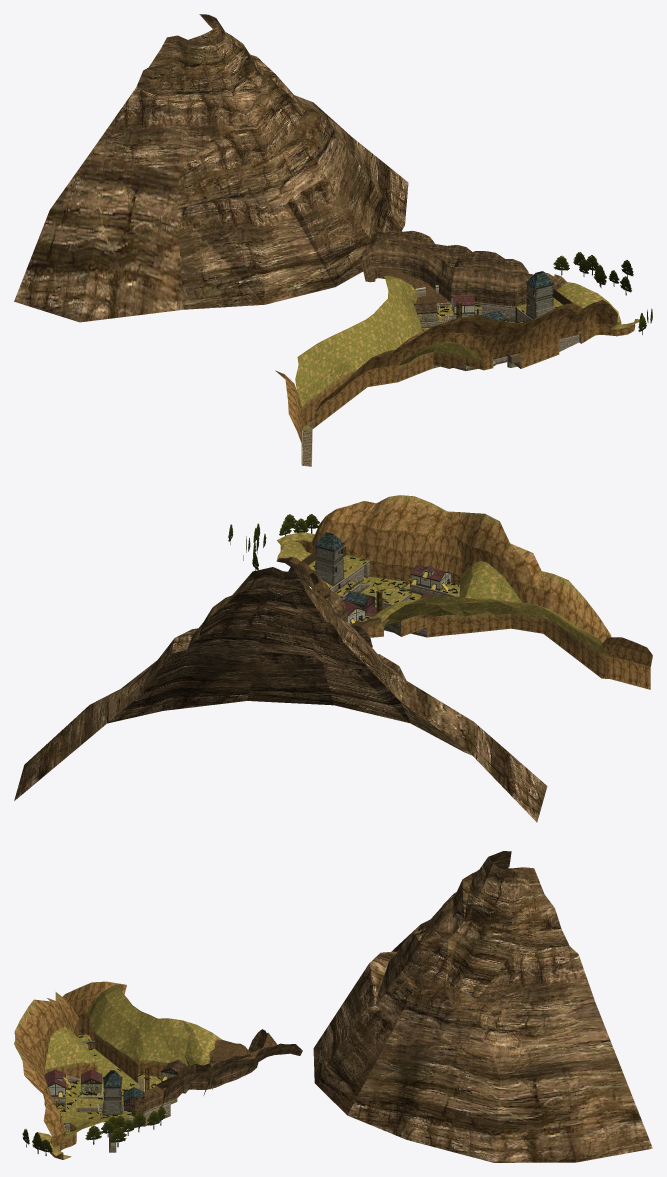
3 views of the same model, one above another, from view 1: azimuth 30°, elevation 25°; view 2: azimuth 150°, elevation 25°; view 3: azimuth 270°, elevation 25° (orthographic). The views are drawn at different scales.
Visible parts, largest first — view 1: node-030E802D, node-0382819D, node-00C8B8E8, node-016BA2C4, node-02FECBF4, node-008FCCA3, node-019AE72D, node-02F52B98; view 2: node-030E802D, node-0382819D, node-00C8B8E8, node-02F52B98, node-016BA2C4, node-02FECBF4, node-019AE72D, node-02032548, node-008FCCA3; view 3: node-030E802D, node-00C8B8E8, node-0382819D, node-02FECBF4, node-008FCCA3, node-02F52B98, node-016BA2C4, node-019AE72D.
Boxes of the visible parts, <box> form: node-030E802D: <box>14,14,566,322</box>; node-0382819D: <box>275,298,635,464</box>; node-00C8B8E8: <box>295,276,645,429</box>; node-016BA2C4: <box>416,286,581,370</box>; node-02FECBF4: <box>553,252,652,334</box>; node-008FCCA3: <box>366,236,533,303</box>; node-019AE72D: <box>525,279,554,320</box>; node-02F52B98: <box>414,271,554,359</box>; node-030E802D: <box>14,556,547,822</box>; node-0382819D: <box>280,495,652,689</box>; node-00C8B8E8: <box>276,532,609,656</box>; node-02F52B98: <box>315,532,450,626</box>; node-016BA2C4: <box>330,560,455,637</box>; node-02FECBF4: <box>228,514,319,570</box>; node-019AE72D: <box>314,541,344,590</box>; node-02032548: <box>320,569,450,623</box>; node-008FCCA3: <box>289,557,390,646</box>; node-030E802D: <box>131,851,652,1162</box>; node-00C8B8E8: <box>38,984,211,1159</box>; node-0382819D: <box>14,981,204,1159</box>; node-02FECBF4: <box>22,1106,165,1155</box>; node-008FCCA3: <box>143,1033,277,1098</box>; node-02F52B98: <box>44,1068,182,1107</box>; node-016BA2C4: <box>52,1074,212,1132</box>; node-019AE72D: <box>82,1069,177,1114</box>.
Bounding box in the file's own units: 9891 × 5102 × 11991.
Materials: 29 (29 with a texture image).
